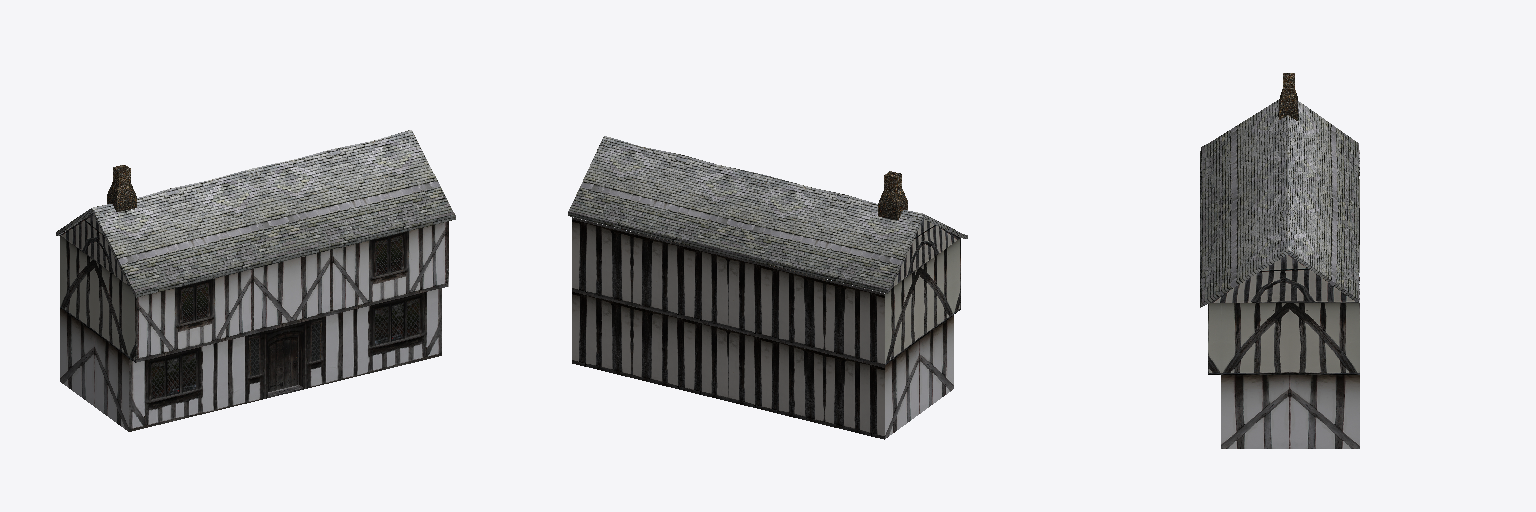
3 views of the same model, side by side, from view 1: azimuth 30°, elevation 25°; view 2: azimuth 150°, elevation 25°; view 3: azimuth 270°, elevation 25° (orthographic).
Visible parts, largest first — view 1: medhouse_4; view 2: medhouse_4; view 3: medhouse_4.
Boxes of the visible parts, x1,y1,x2,y2 form: medhouse_4: [56, 130, 455, 431]; medhouse_4: [568, 136, 967, 439]; medhouse_4: [1200, 73, 1359, 448].
Bounding box in the file's own units: 503 × 350 × 217.
Materials: 1 (1 with a texture image).